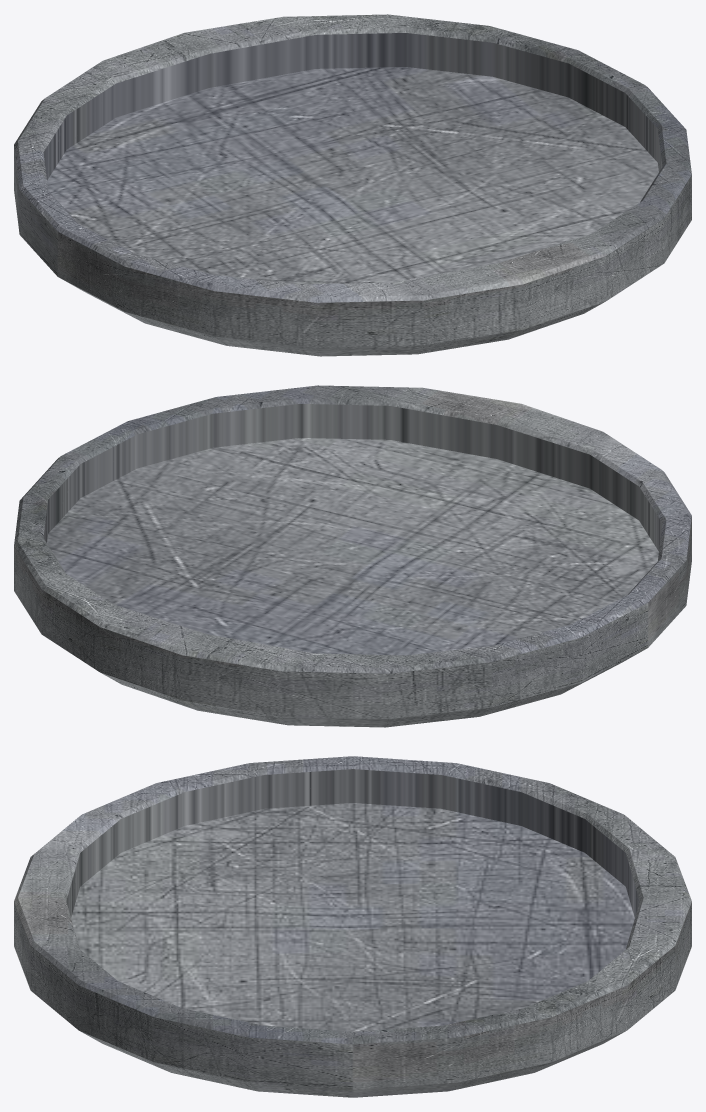
Rendered from JarLit.fbx.
The picture shows the model from 3 angles, top to bottom: view 1: azimuth 30°, elevation 25°; view 2: azimuth 150°, elevation 25°; view 3: azimuth 270°, elevation 25°; orthographic projection.
Visible parts, largest first — view 1: pCylinder4; view 2: pCylinder4; view 3: pCylinder4.
Part boxes in pixels (x1,y1,x2,y2): pCylinder4: [14, 14, 691, 356]; pCylinder4: [14, 385, 691, 727]; pCylinder4: [14, 756, 691, 1097].
Size of the model in its own units: 6.65 by 0.75 by 6.65.
1 material, 1 textured.
